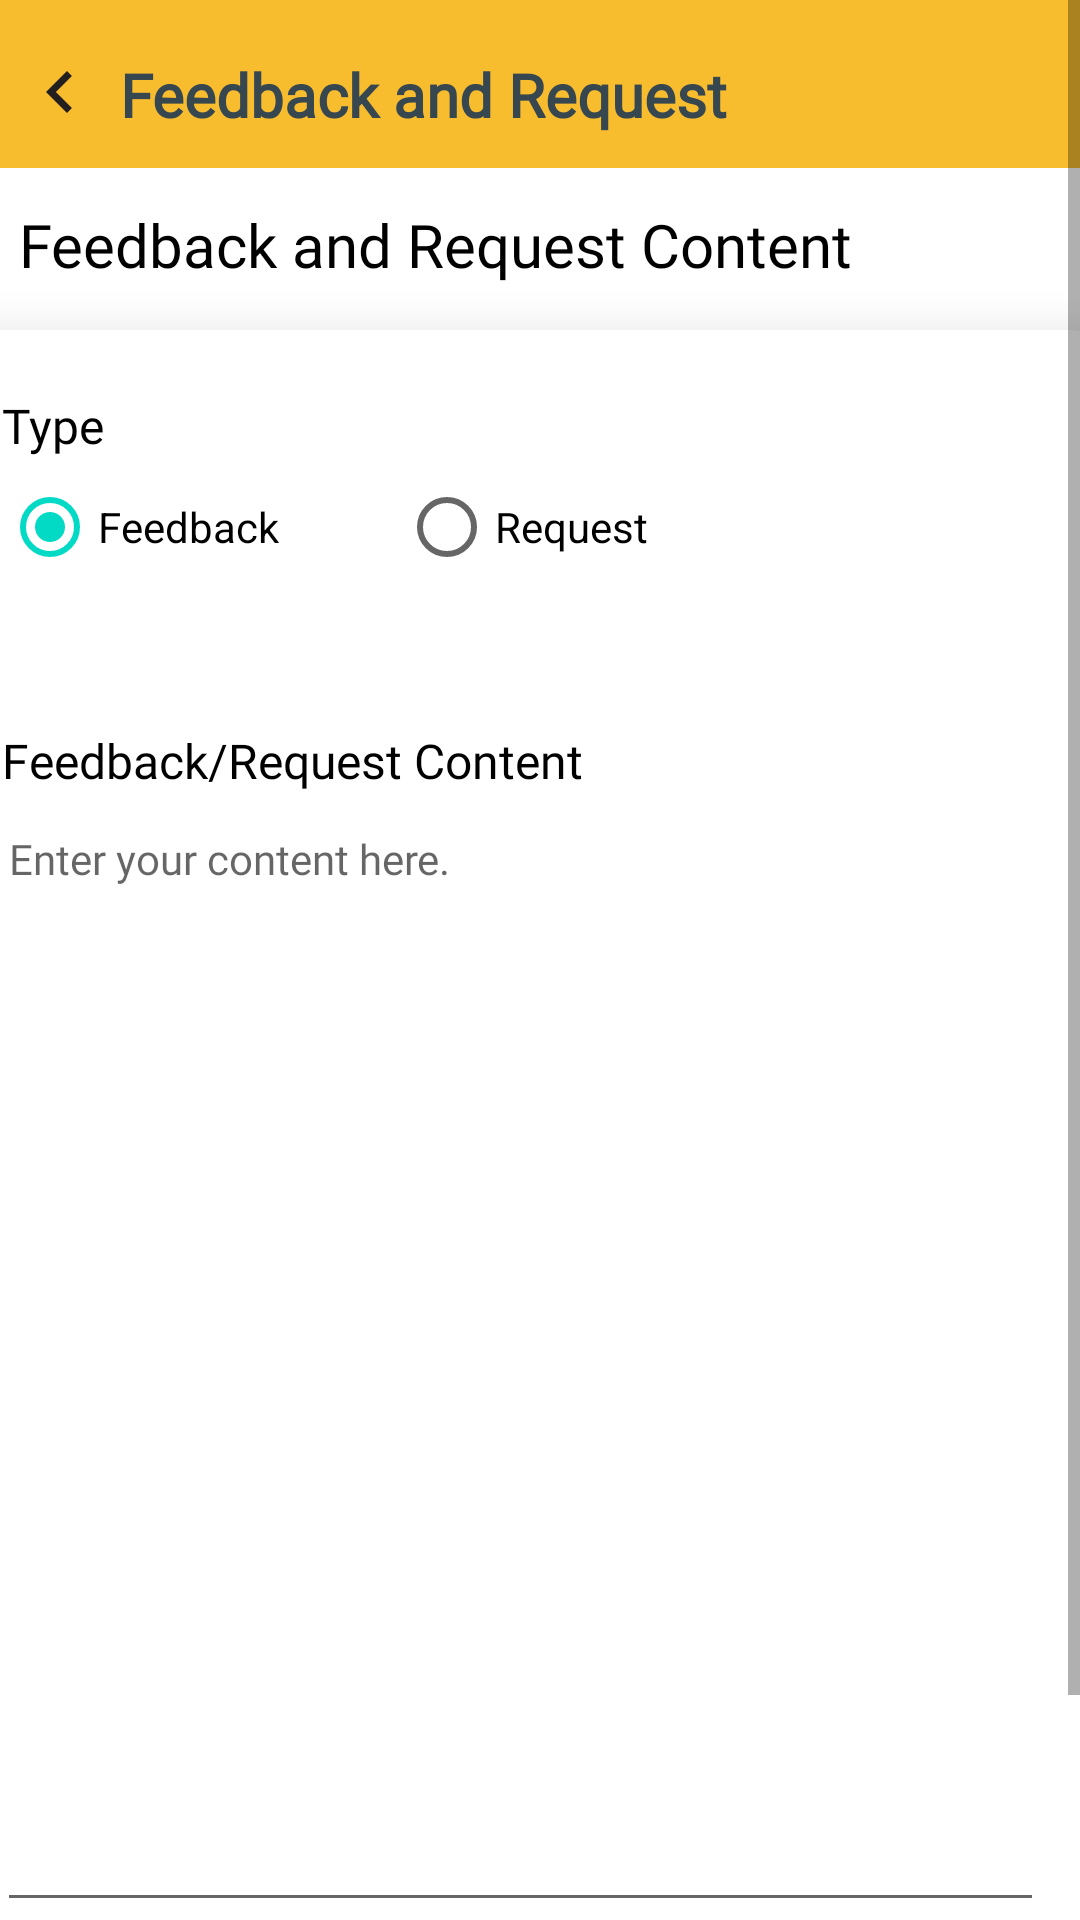

Icon click points for this 1080x1920 phone screenshot, format (x,y):
chevron left: (59,92)
